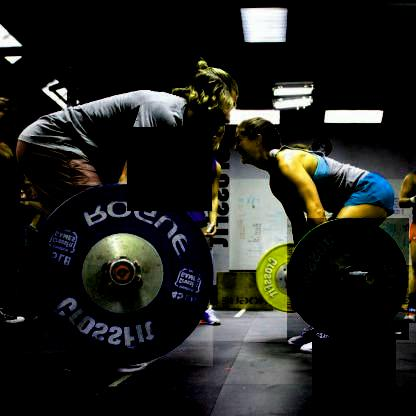barbell: (23, 183, 212, 367), (286, 218, 407, 341)
